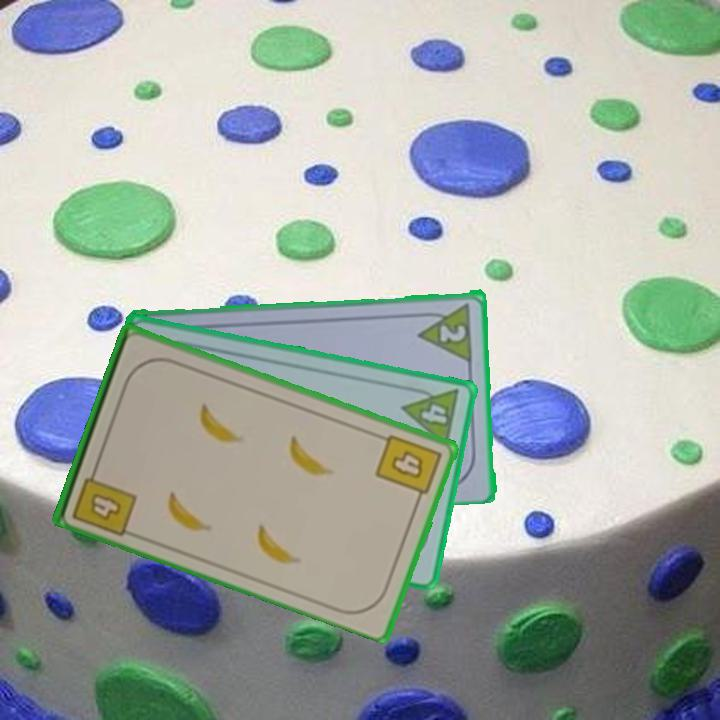2p: (414, 299, 476, 363)
4b: (68, 460, 140, 539), (371, 430, 444, 506)
4p: (399, 382, 462, 451)
